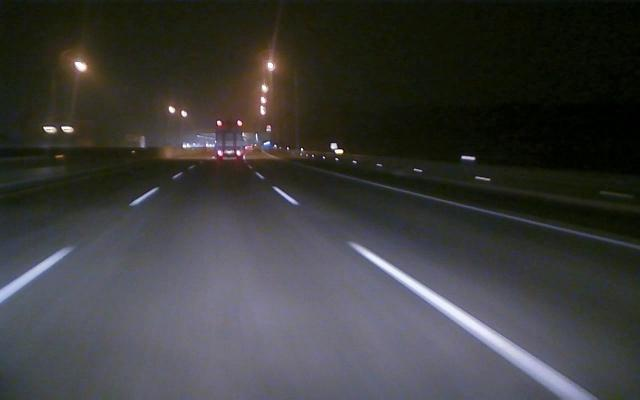lane: (275, 187, 599, 399), (355, 178, 640, 253), (1, 193, 151, 302)
